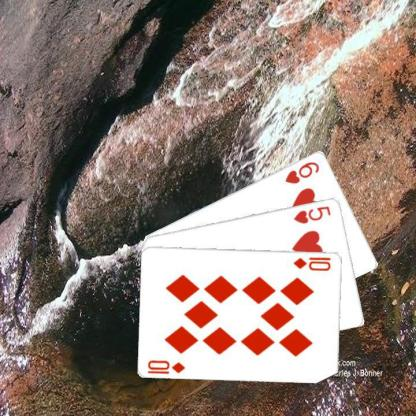10D: (291, 254, 332, 272), (145, 357, 187, 374)
5H: (291, 203, 332, 225)
6H: (283, 158, 320, 185)
